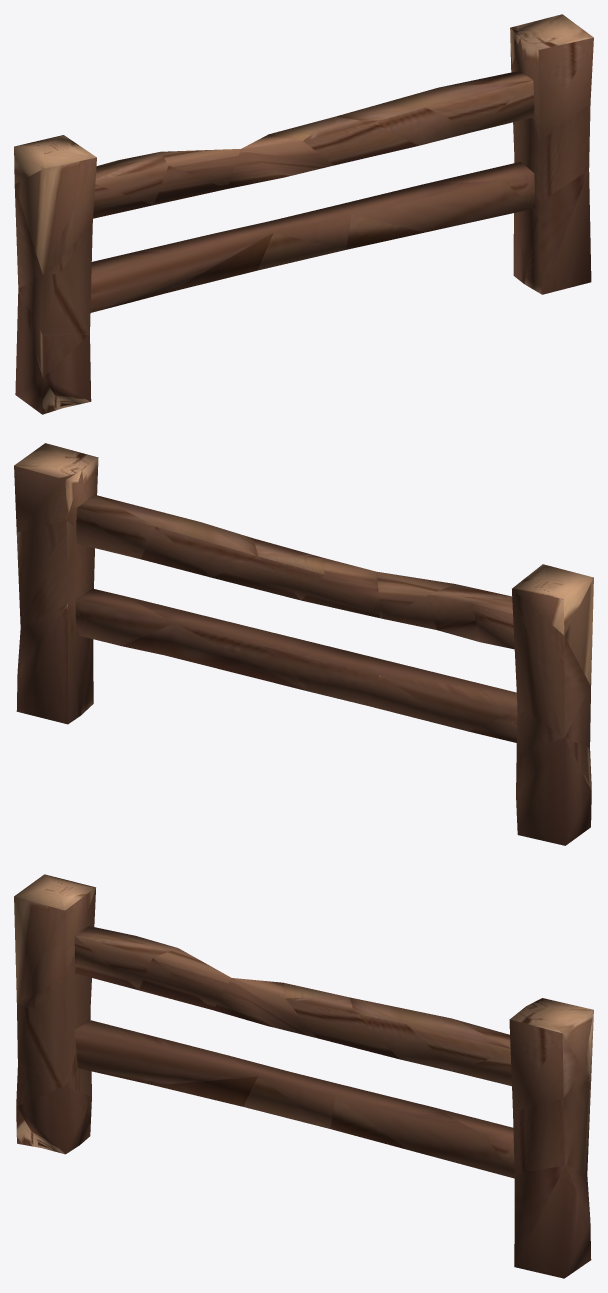
The model's file is s-barriere-semis.glb.
The picture shows the model from 3 angles, top to bottom: view 1: azimuth 30°, elevation 25°; view 2: azimuth 150°, elevation 25°; view 3: azimuth 330°, elevation 25°; orthographic projection.
Parts seen in each view (by area): view 1: s-barriere-semis; view 2: s-barriere-semis; view 3: s-barriere-semis.
Boxes of the visible parts, x1=… form: s-barriere-semis: x1=14, y1=14, x2=593, y2=414; s-barriere-semis: x1=14, y1=443, x2=593, y2=845; s-barriere-semis: x1=14, y1=874, x2=593, y2=1278.
Bounding box in the file's own units: 2 × 0.8641 × 0.2064.
Materials: 1 (1 with a texture image).
